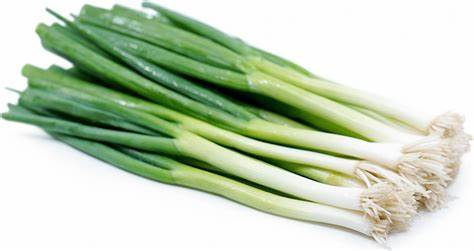Green Onion: (2, 1, 473, 250)
